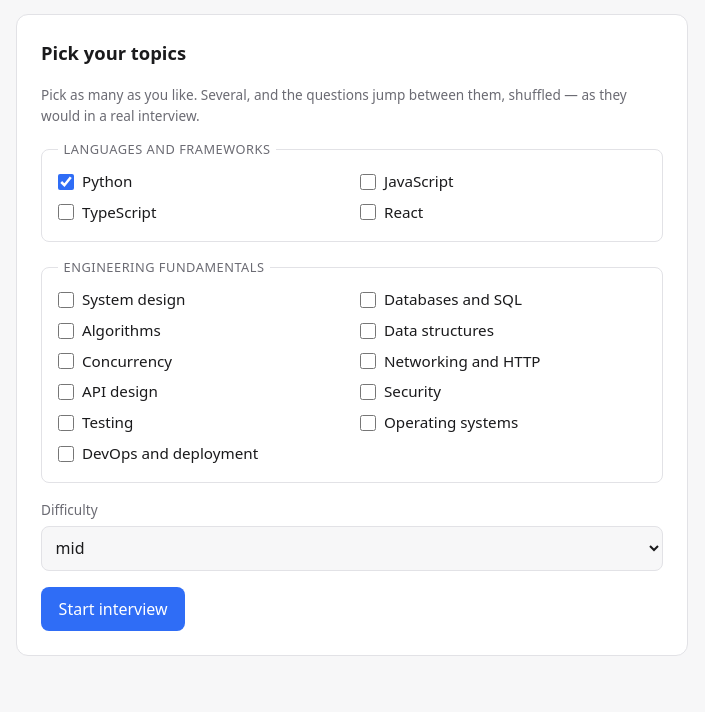
Test: errors › clears a previous error on the next attempt
(page scrolled)
Click the button "Start interview" at {"x": 113, "y": 609}, box [41,587,185,631]
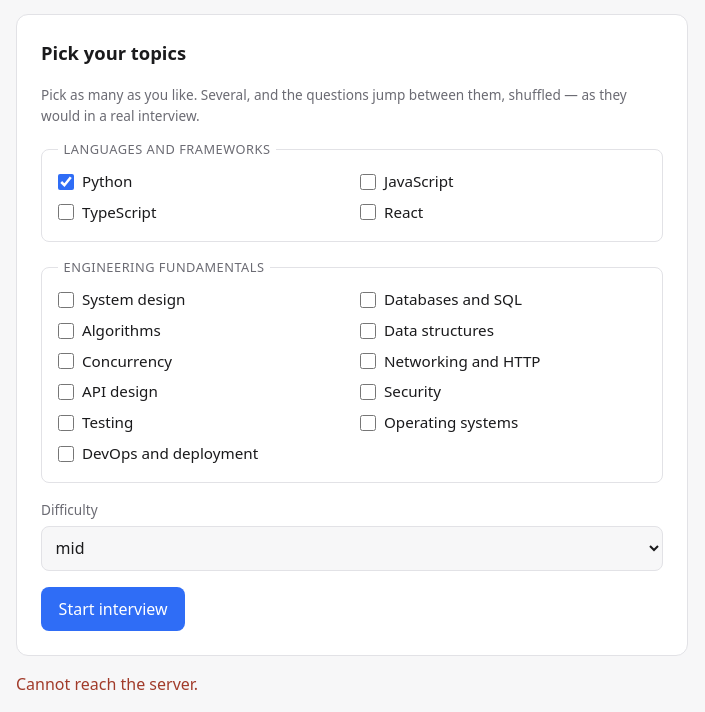
expect the message "Cannot reach the server." is shown: met, box [16,673,198,695]
Click the button "Start interview" at {"x": 113, "y": 609}, box [41,587,185,631]
(page scrolled)
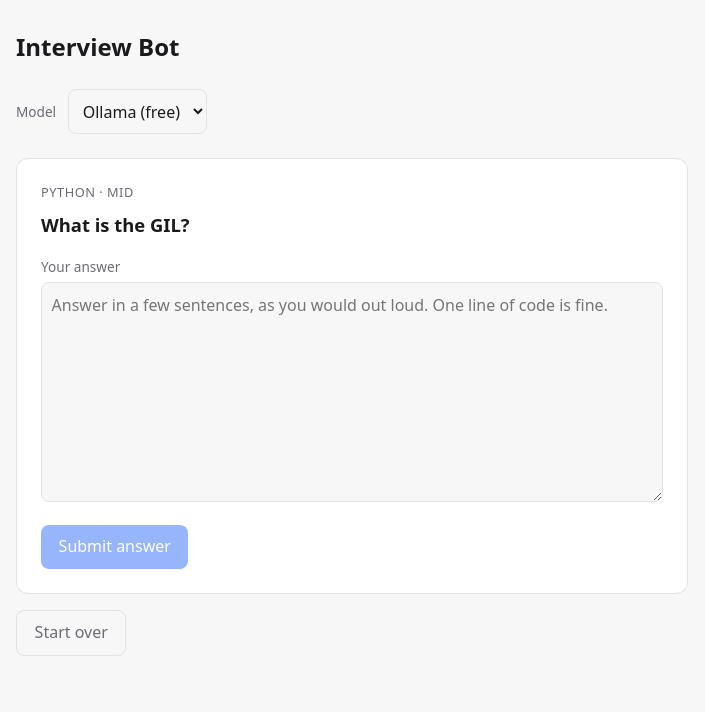
expect the message "Cannot reach the server." is gone: met
